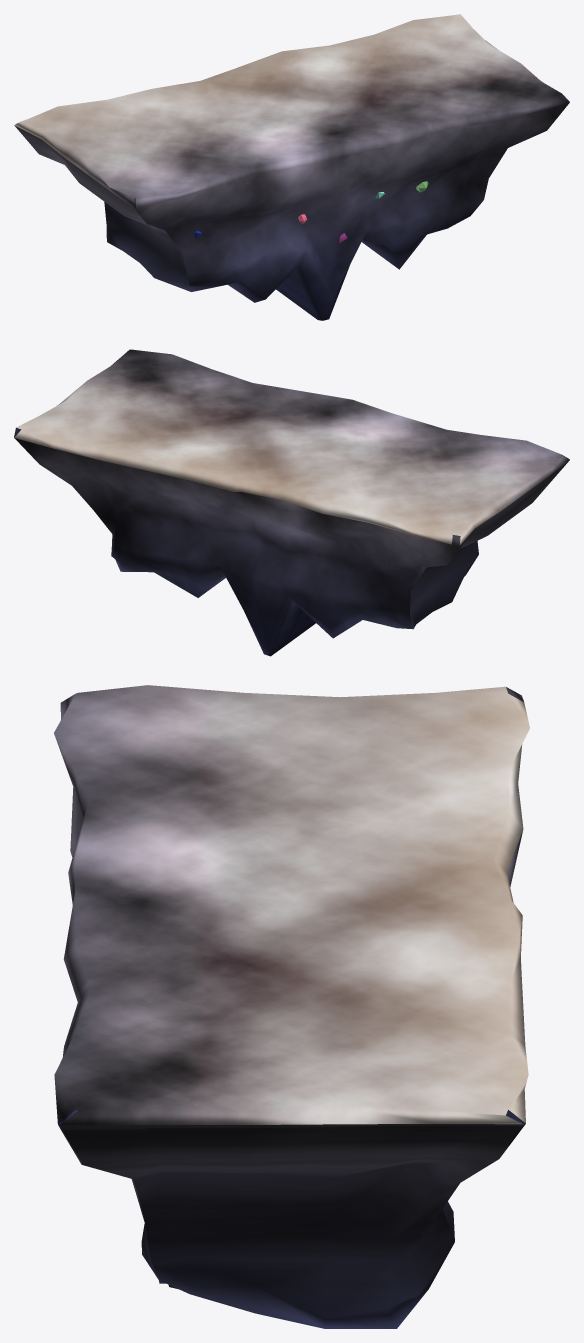
File: envPlatLng2Base.fbx
3 renders of one model, top to bottom at view 1: azimuth 30°, elevation 25°; view 2: azimuth 150°, elevation 25°; view 3: azimuth 270°, elevation 25°, orthographic. The views are drawn at different scales.
Parts seen in each view (by area): view 1: envPlatLng2Base; view 2: envPlatLng2Base; view 3: envPlatLng2Base.
Part boxes in pixels (<box>): envPlatLng2Base: <box>14,14,569,320</box>; envPlatLng2Base: <box>14,349,569,656</box>; envPlatLng2Base: <box>54,685,529,1328</box>.
Bounding box in the file's own units: 50.67 × 21.7 × 23.61.
